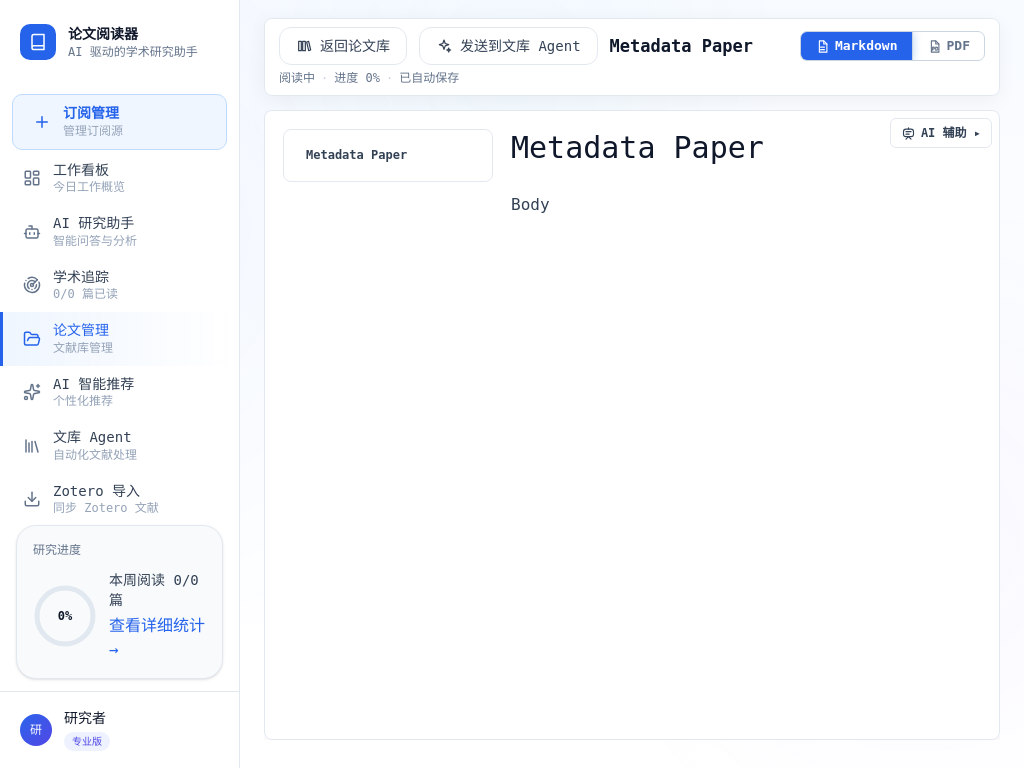
Test case: reader route loads blocks and rebuilds them without replacing markdown
# 打开抽屉并切换到结构块 tab
Click the button "AI 辅助 ▸" at (941, 133), box left=890, top=118, right=992, bottom=148
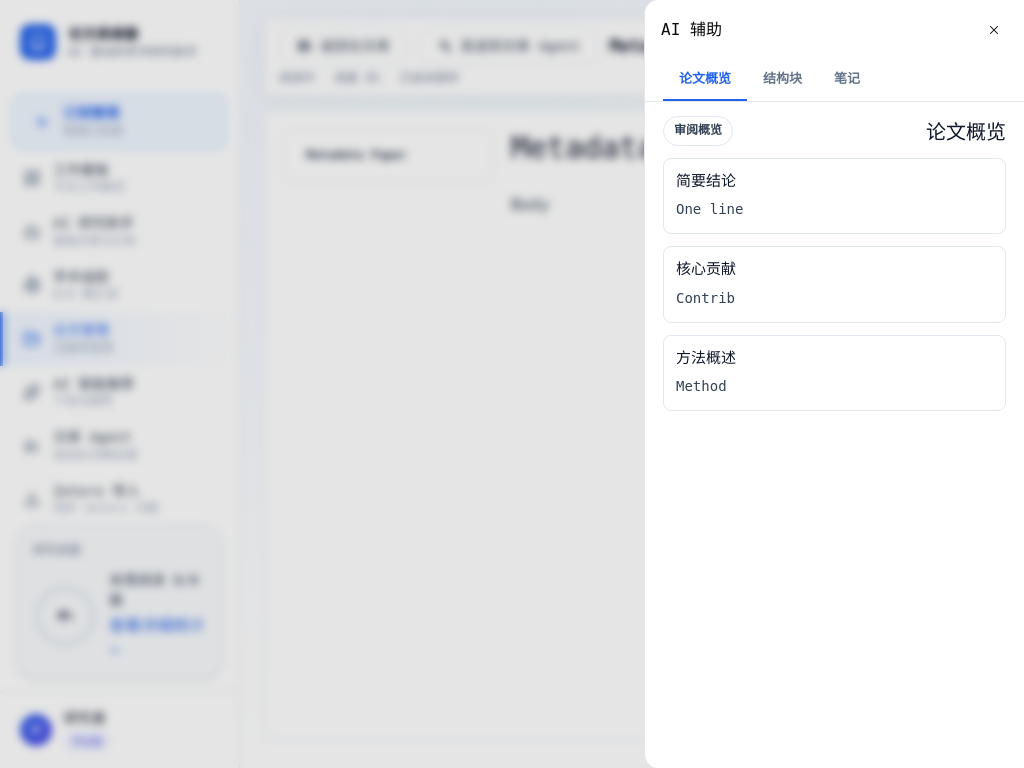
Click the tab "结构块" at (782, 80), box left=747, top=60, right=818, bottom=101
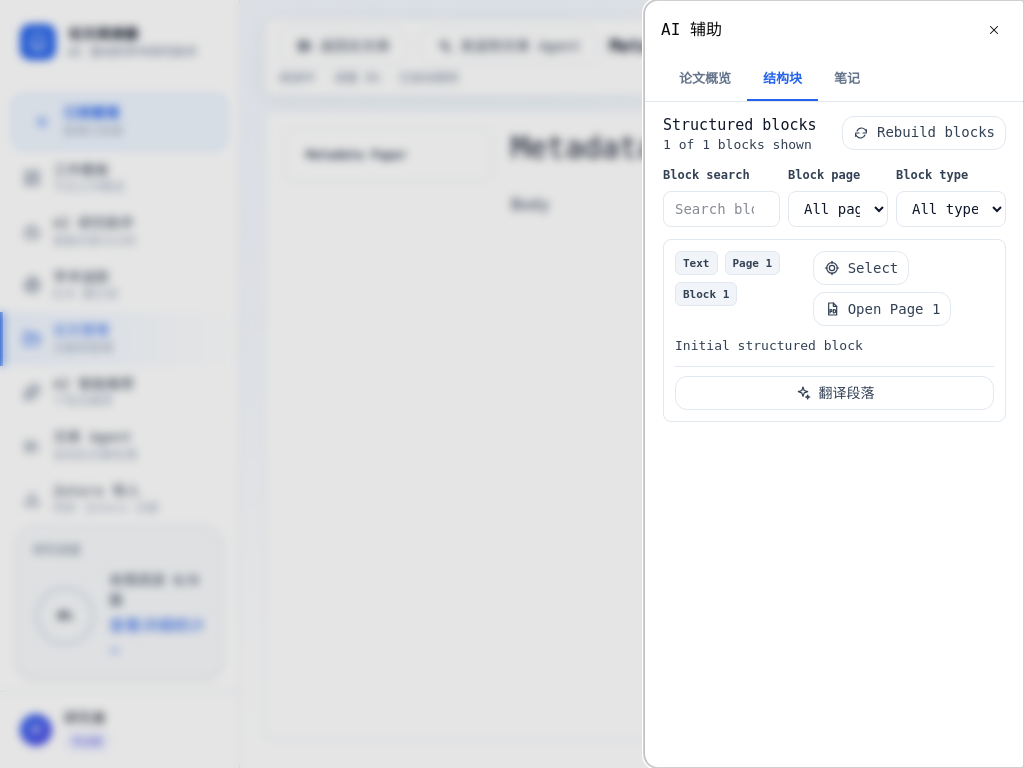
Check: the heading "AI 辅助" is shown, box left=661, top=18, right=722, bottom=42
Check: the text "Initial structured block" is shown, box left=675, top=338, right=863, bottom=353
Click the button "Rebuild blocks" at (924, 133), box left=842, top=116, right=1006, bottom=150
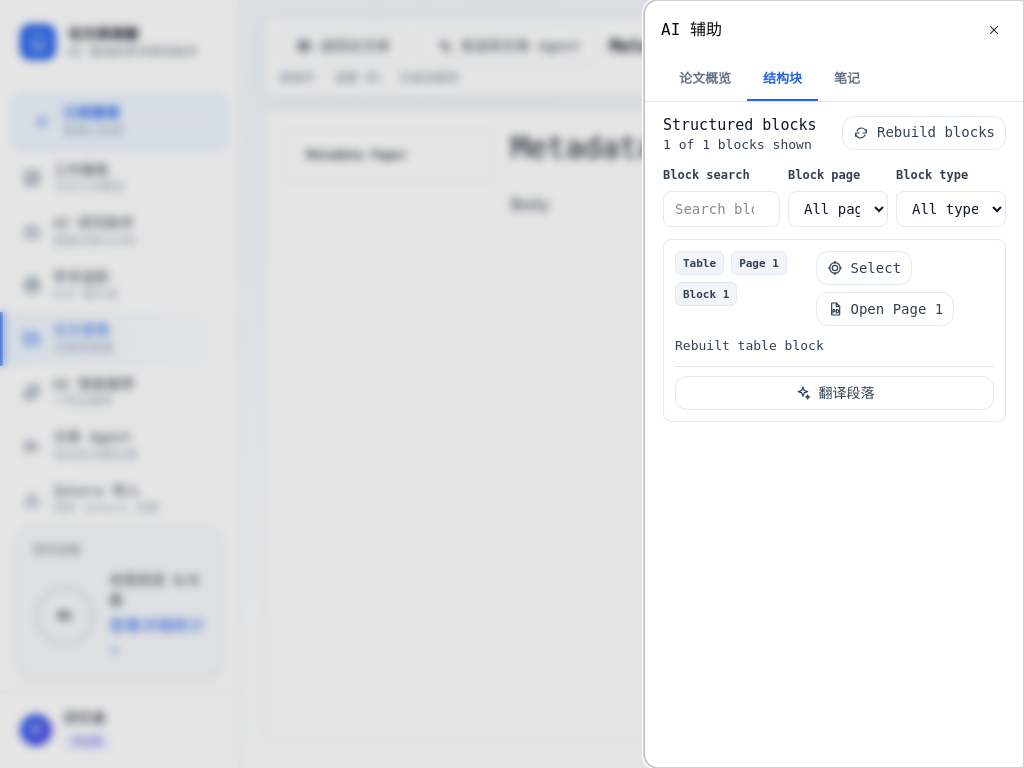
Check: the heading "AI 辅助" is shown, box left=661, top=18, right=722, bottom=42
Check: the text "Rebuilt table block" is shown, box left=675, top=338, right=824, bottom=353
